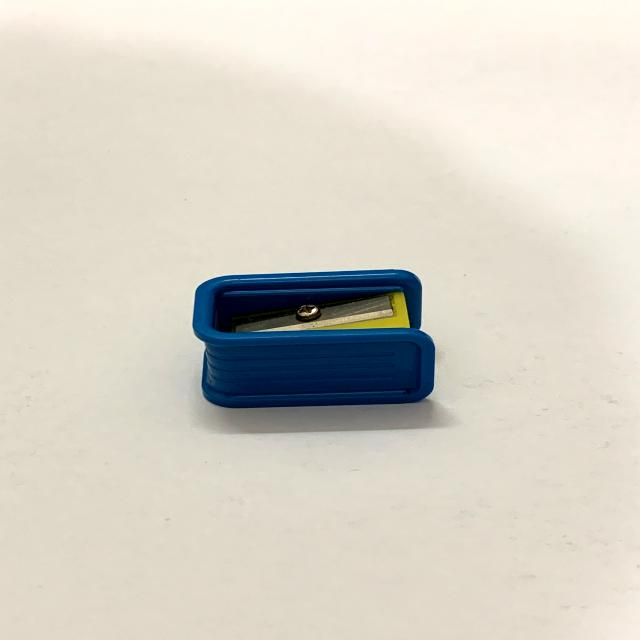Sharpner: (169, 258, 466, 424)
